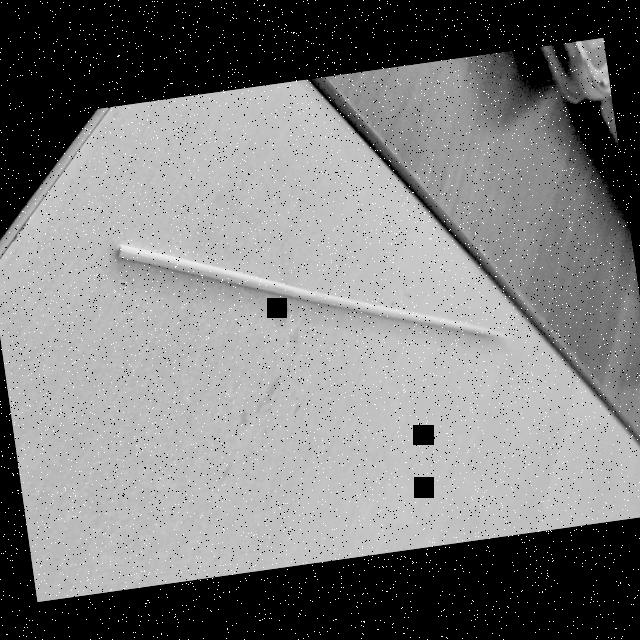stick: (105, 186, 520, 404)
